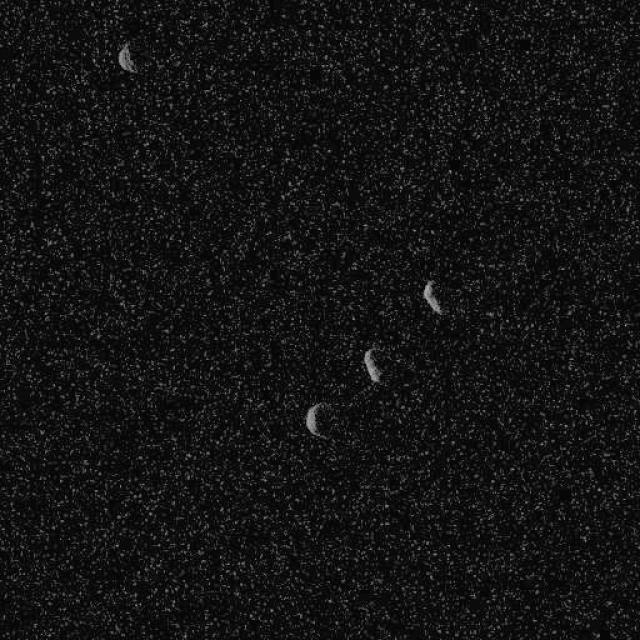D2: (304, 401, 332, 440), (421, 277, 445, 315), (362, 347, 382, 382), (116, 41, 136, 74)
